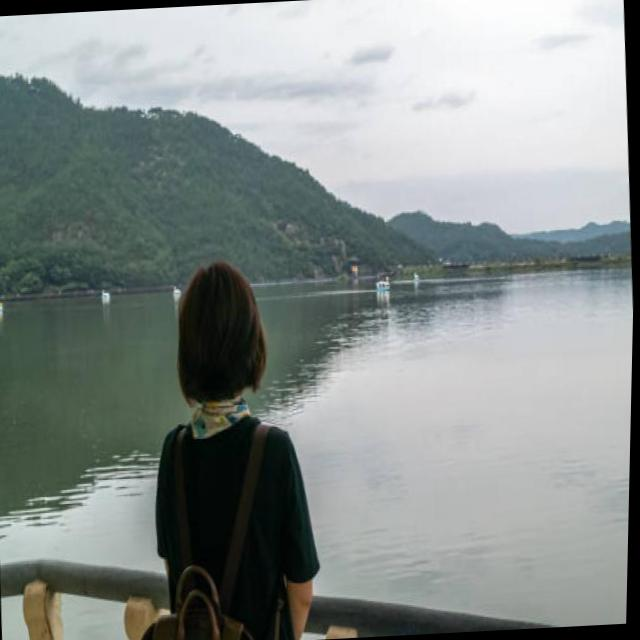no helmet: (162, 259, 273, 413)
